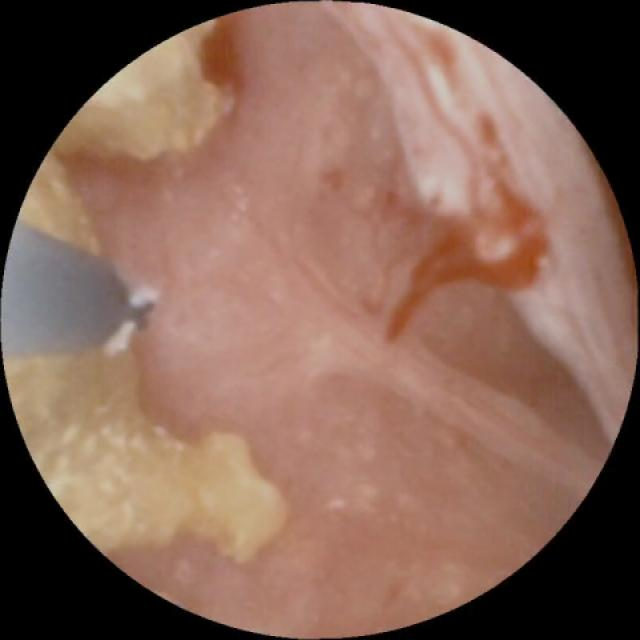stone: (8, 346, 286, 559), (23, 24, 228, 251)
tissue: (82, 19, 630, 634)
